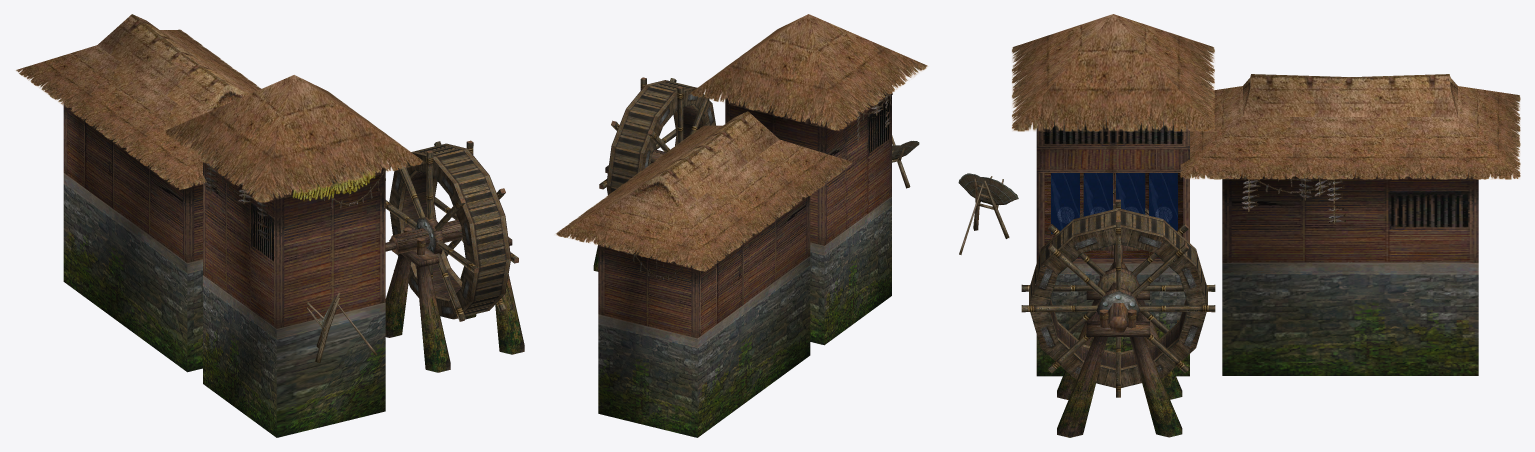
The model's file is cj_ferry_private02.glb.
3 renders of one model, left to right at view 1: azimuth 30°, elevation 25°; view 2: azimuth 150°, elevation 25°; view 3: azimuth 270°, elevation 25°, orthographic. The views are drawn at different scales.
Visible parts, largest first — view 1: CJ_ferry_private02_01, CJ_ferry_private02_a01, CJ_ferry_deco_01, CJ_ferry_deco_02, CJ_ferry_private02_03, CJ_ferry_private02_02, CJ_ferry_deco, CJ_FrameCarrier; view 2: CJ_ferry_private02_01, CJ_ferry_private02_a01, CJ_ferry_private02_03, CJ_ferry_deco_02, CJ_ferry_deco_01, CJ_ferry_private02_02, CJ_FrameCarrier; view 3: CJ_ferry_private02_01, CJ_ferry_private02_a01, CJ_ferry_deco_01, CJ_ferry_deco_02, CJ_ferry_private02_03, CJ_FrameCarrier, CJ_ferry_private02_02.
Part boxes in pixels (<box>): CJ_ferry_private02_01: <box>63,103,385,437</box>; CJ_ferry_private02_a01: <box>16,29,423,202</box>; CJ_ferry_deco_01: <box>385,140,524,372</box>; CJ_ferry_deco_02: <box>385,141,518,321</box>; CJ_ferry_private02_03: <box>97,14,247,117</box>; CJ_ferry_private02_02: <box>205,163,390,240</box>; CJ_ferry_deco: <box>289,162,379,201</box>; CJ_FrameCarrier: <box>306,292,377,362</box>; CJ_ferry_private02_01: <box>598,83,891,437</box>; CJ_ferry_private02_a01: <box>556,14,927,271</box>; CJ_ferry_private02_03: <box>629,111,779,208</box>; CJ_ferry_deco_02: <box>599,78,710,195</box>; CJ_ferry_deco_01: <box>593,77,715,271</box>; CJ_ferry_private02_02: <box>609,76,899,280</box>; CJ_FrameCarrier: <box>892,135,919,188</box>; CJ_ferry_private02_01: <box>1036,115,1478,376</box>; CJ_ferry_private02_a01: <box>1012,14,1520,179</box>; CJ_ferry_deco_01: <box>1029,174,1206,437</box>; CJ_ferry_deco_02: <box>1021,173,1215,397</box>; CJ_ferry_private02_03: <box>1243,74,1457,116</box>; CJ_FrameCarrier: <box>958,173,1018,254</box>; CJ_ferry_private02_02: <box>1241,171,1345,223</box>.
Size of the model in its own units: 12.73 by 13.39 by 20.37.
Materials: 8 (8 with a texture image).
